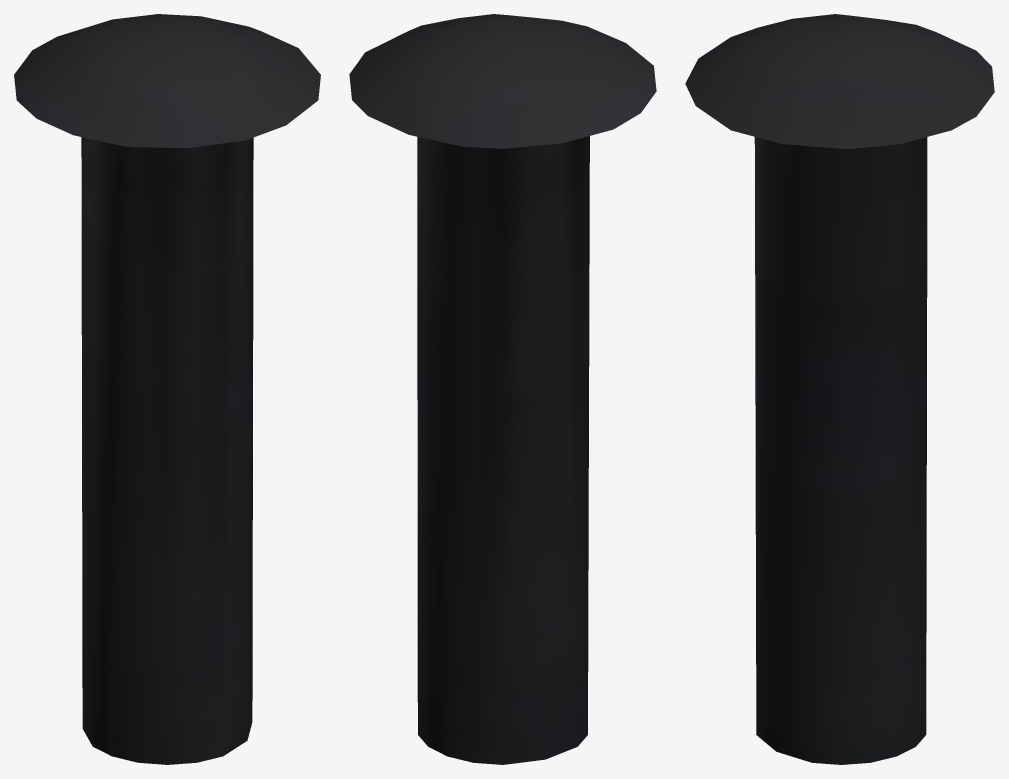
The model's file is Tubular_Rivet.dae.
3 views of the same model, side by side, from view 1: azimuth 30°, elevation 25°; view 2: azimuth 150°, elevation 25°; view 3: azimuth 270°, elevation 25° (orthographic).
Visible parts, largest first — view 1: Tubular_Rivet; view 2: Tubular_Rivet; view 3: Tubular_Rivet.
Boxes of the visible parts, x1,y1,x2,y2 form: Tubular_Rivet: [14, 14, 320, 764]; Tubular_Rivet: [349, 14, 656, 764]; Tubular_Rivet: [685, 14, 994, 764].
Bounding box in the file's own units: 0.00537 × 0.00535 × 0.0131.
Materials: 1 (1 with a texture image).
